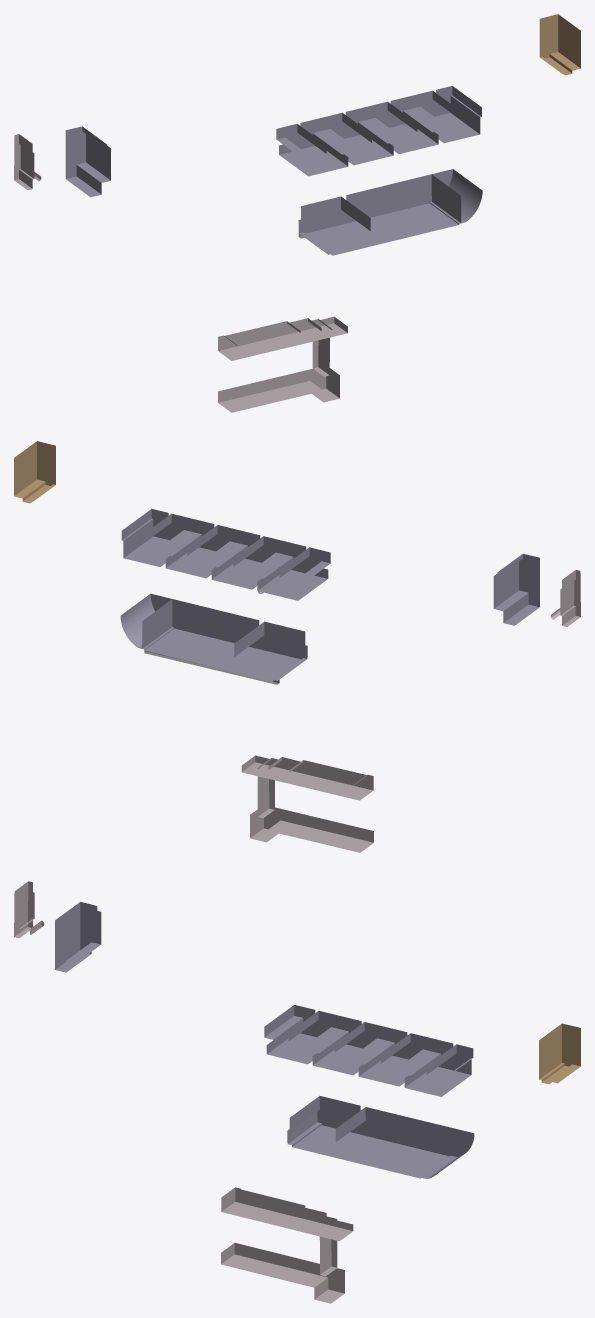
The picture shows the model from 3 angles, top to bottom: view 1: azimuth 30°, elevation 25°; view 2: azimuth 150°, elevation 25°; view 3: azimuth 330°, elevation 25°; orthographic projection.
Visible parts, largest first — view 1: 0_2_0_1_2_1; view 2: 0_2_0_1_2_1; view 3: 0_2_0_1_2_1.
Boxes of the visible parts, x1,y1,x2,y2 form: 0_2_0_1_2_1: [14, 14, 580, 412]; 0_2_0_1_2_1: [14, 441, 580, 852]; 0_2_0_1_2_1: [14, 881, 580, 1303].
Bounding box in the file's own units: 414 × 240 × 39.36.
